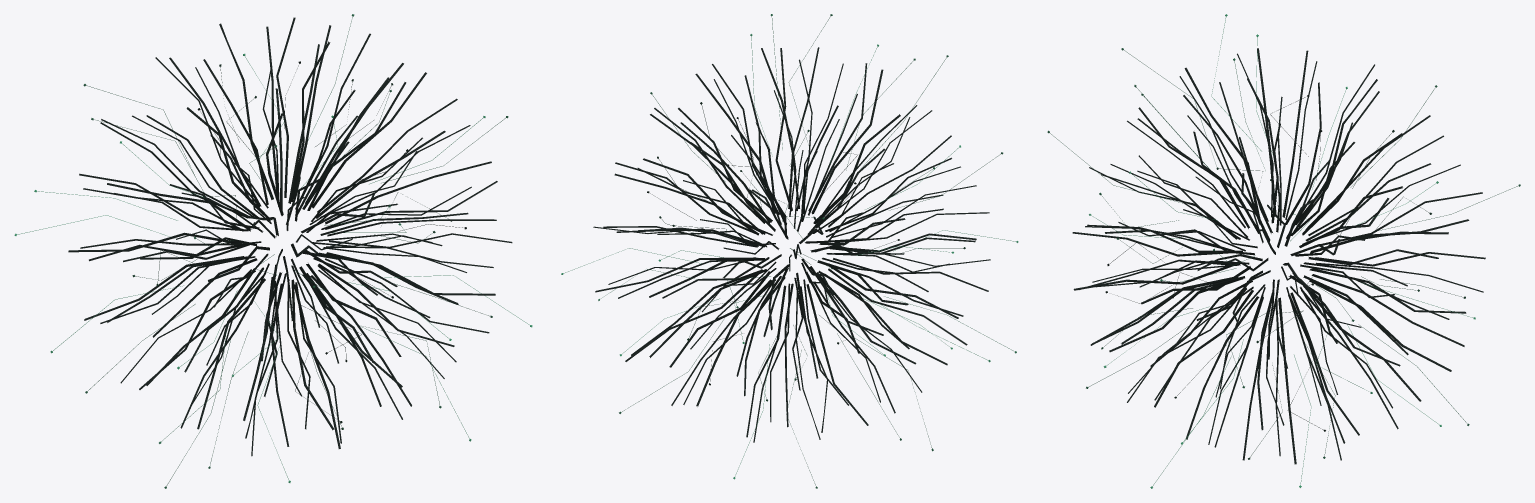
The model's file is senzai_kk01_d0_lod2.glb.
3 renders of one model, left to right at view 1: azimuth 30°, elevation 25°; view 2: azimuth 150°, elevation 25°; view 3: azimuth 270°, elevation 25°, orthographic. The views are drawn at different scales.
Parts seen in each view (by area): view 1: DISTANCE_SURFACE; view 2: DISTANCE_SURFACE; view 3: DISTANCE_SURFACE.
Part boxes in pixels (bbox=[...]): DISTANCE_SURFACE: bbox=[14, 14, 532, 488]; DISTANCE_SURFACE: bbox=[561, 14, 1018, 488]; DISTANCE_SURFACE: bbox=[1047, 14, 1520, 488].
Bounding box in the file's own units: 35.79 × 37.6 × 36.22.
